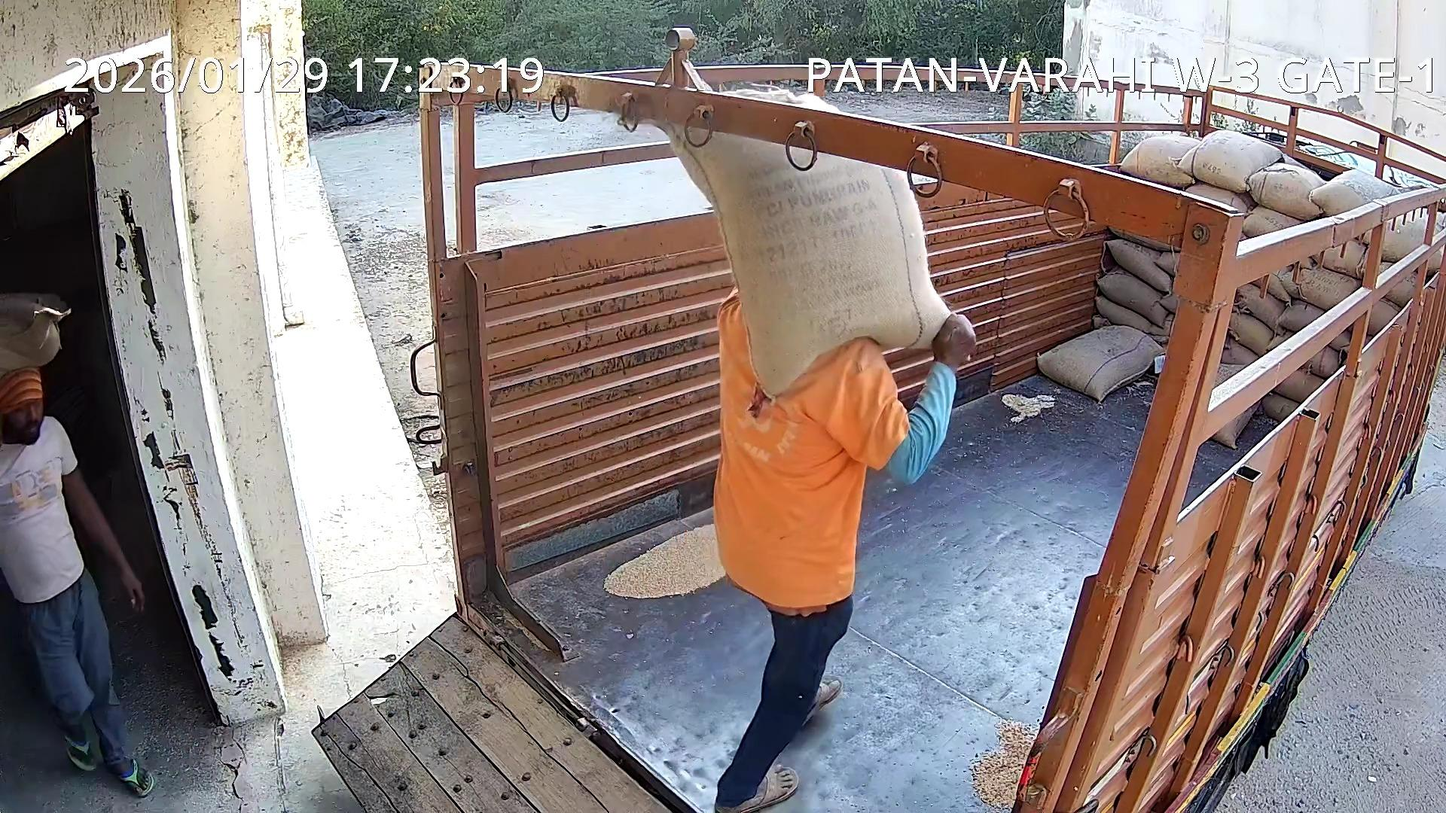Sack: (660, 89, 948, 395)
